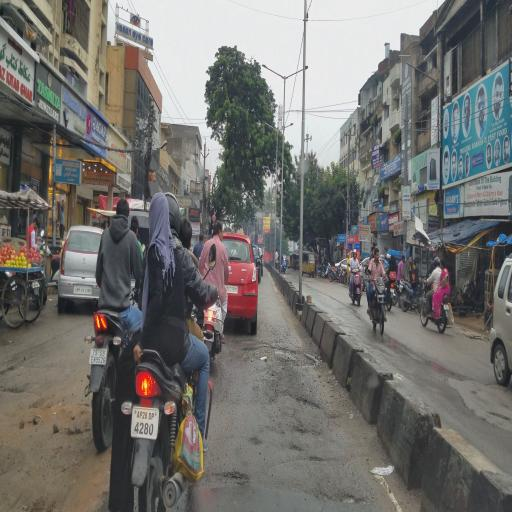street_light_0: (286, 54, 310, 86), (260, 53, 284, 81), (278, 111, 293, 136), (259, 116, 278, 132)
